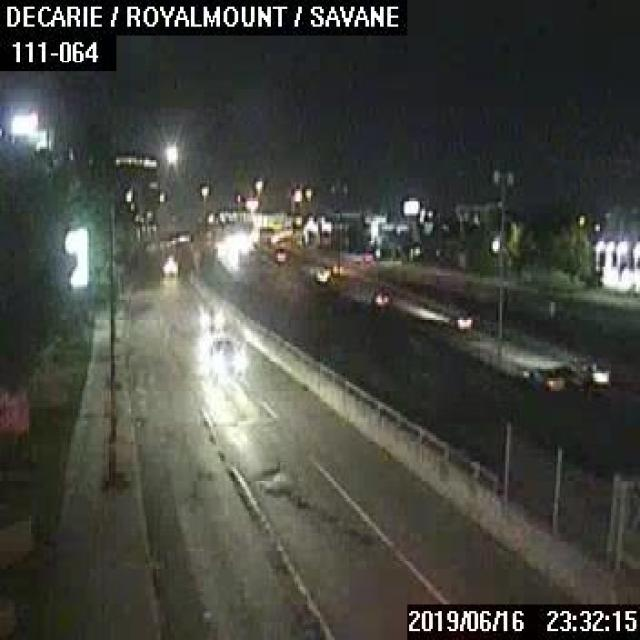vehicle: (517, 362, 565, 391), (205, 335, 238, 370), (579, 359, 611, 391), (195, 302, 222, 329), (448, 309, 473, 331), (160, 254, 177, 276), (371, 288, 391, 306), (311, 266, 330, 282)
